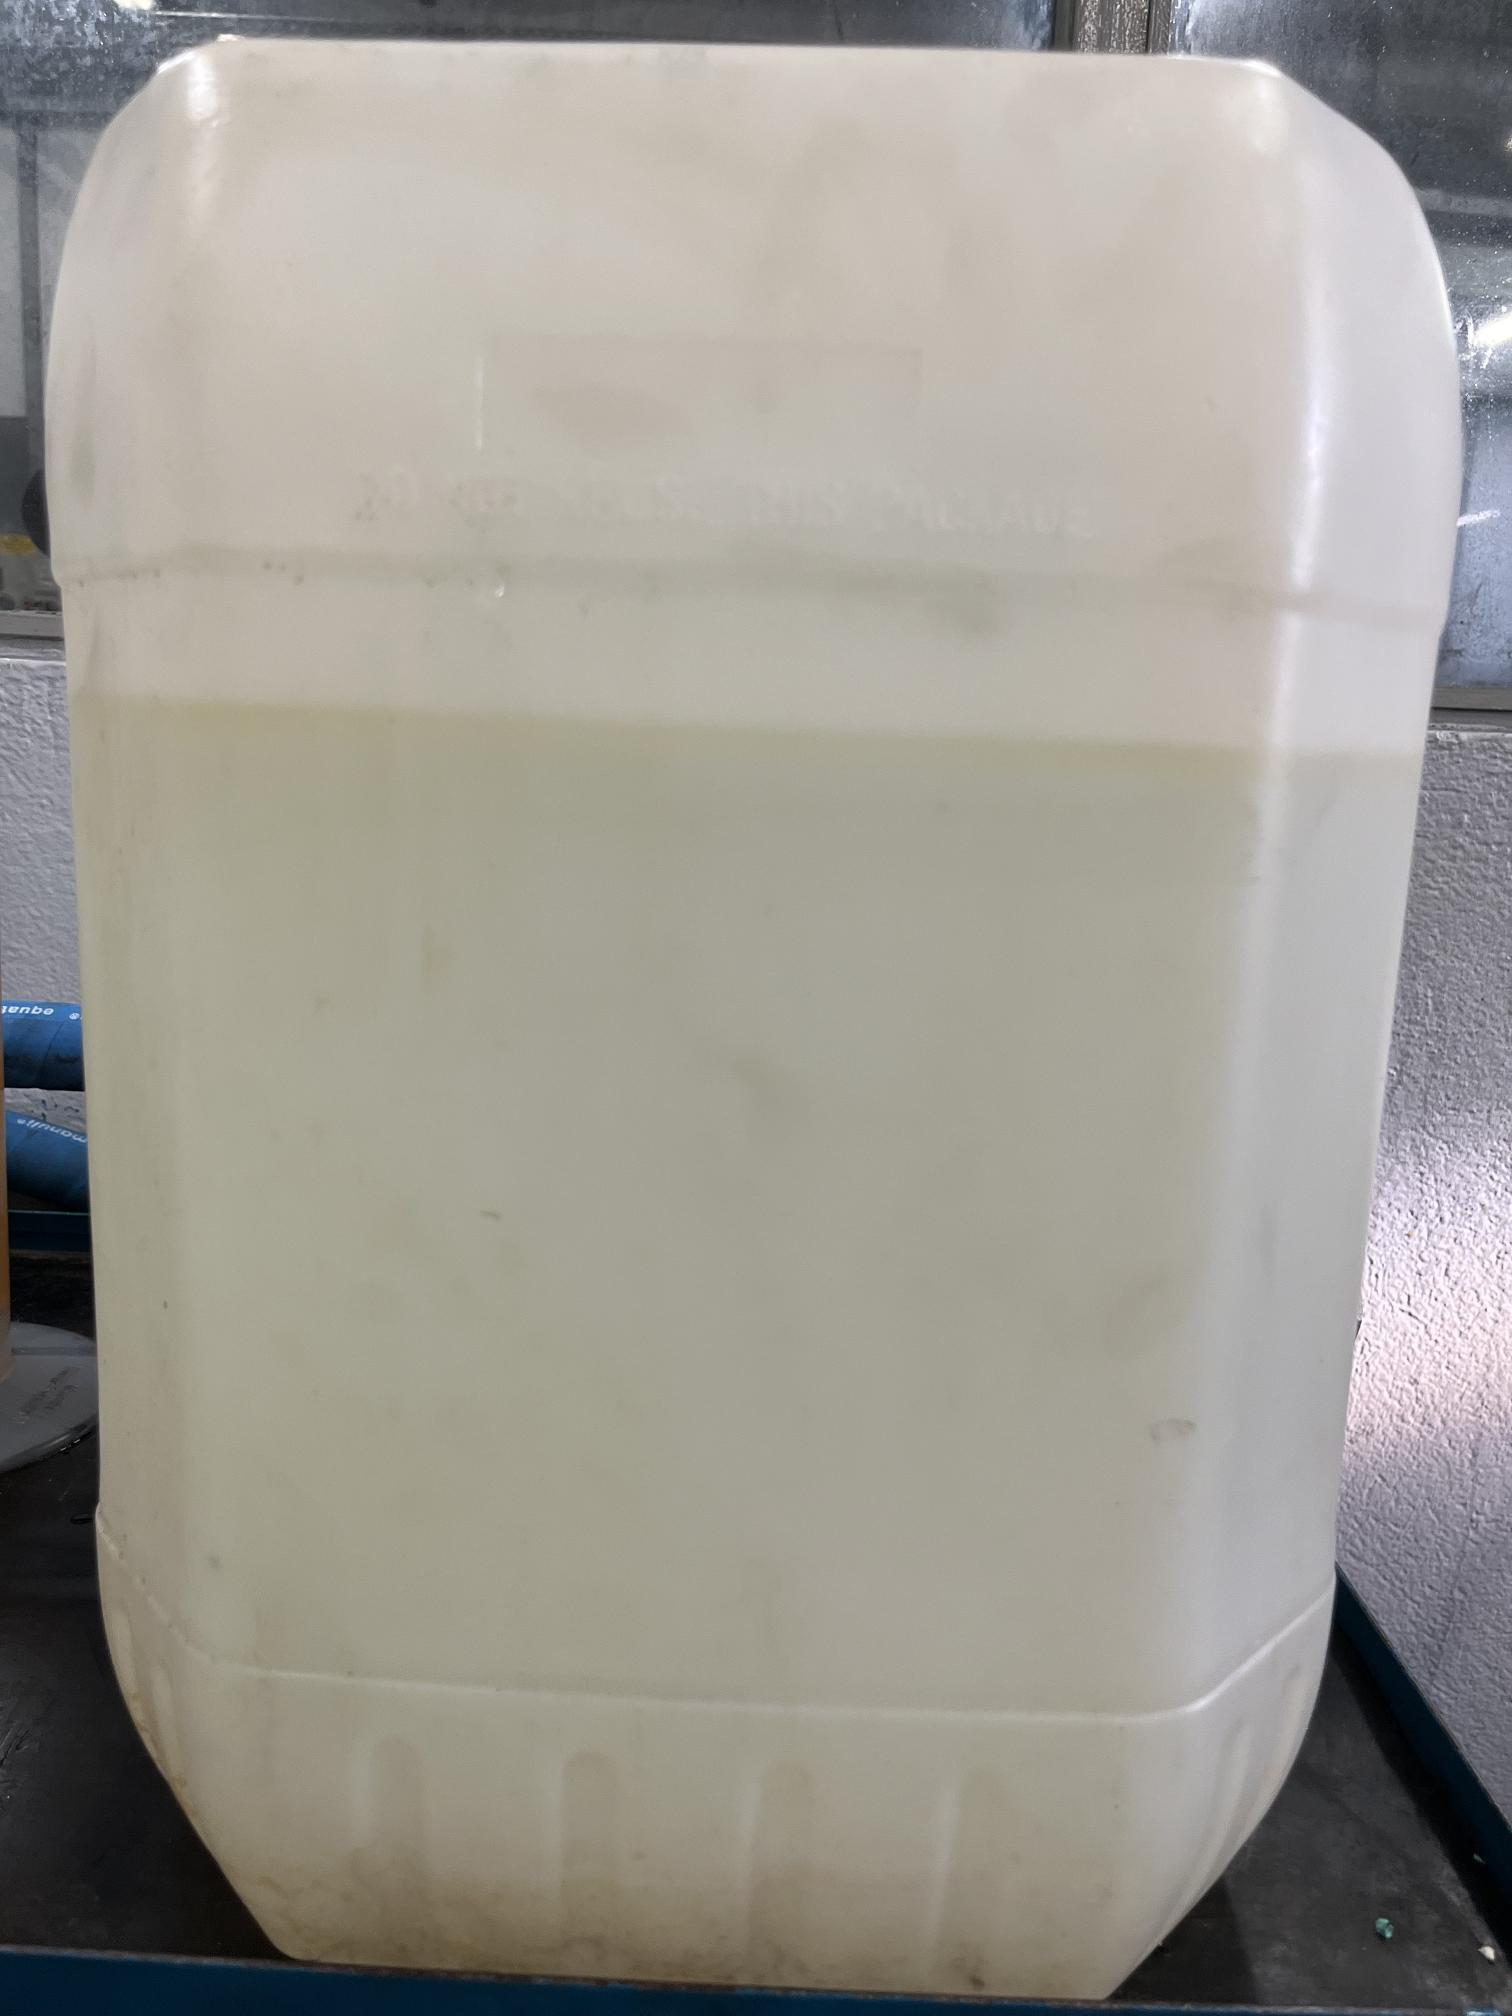Galao: (65, 30, 1420, 1900)
